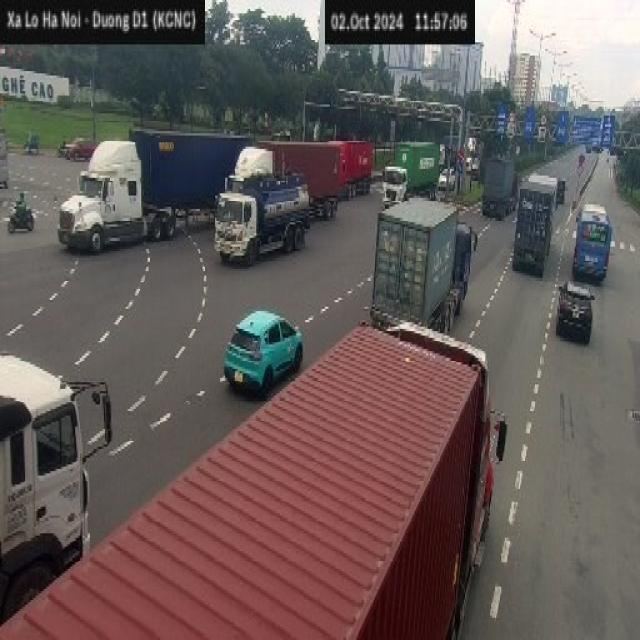bus: (576, 202, 615, 282)
car: (222, 309, 302, 395)
container-truck: (0, 301, 521, 640), (53, 124, 257, 264), (369, 182, 495, 336), (511, 171, 559, 279)
motorcycle: (6, 202, 34, 231)
truck: (0, 349, 111, 624), (213, 177, 319, 265)
